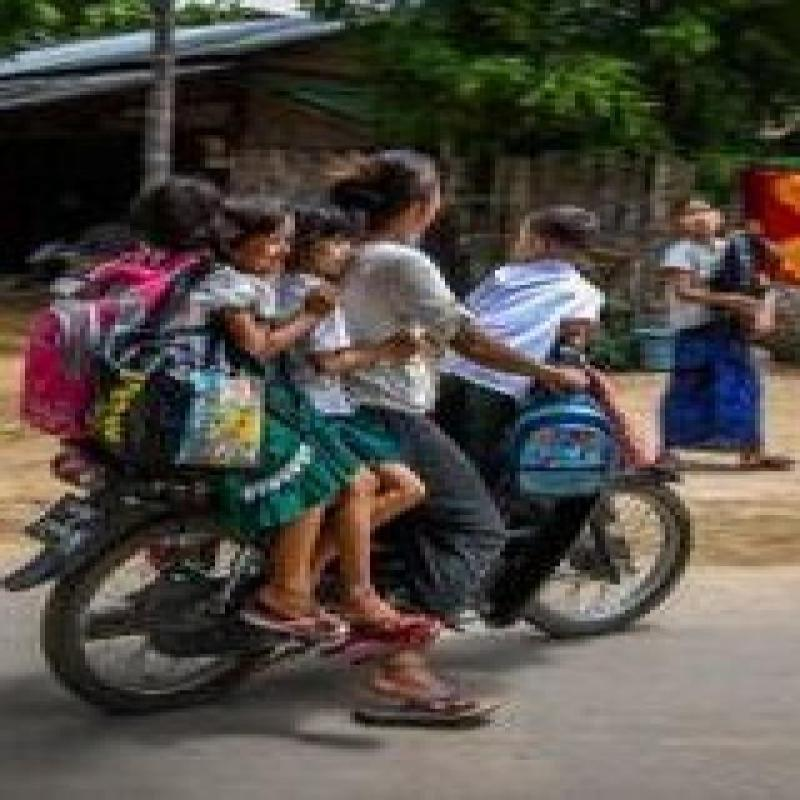nohelmet: (322, 136, 454, 245), (504, 192, 610, 276)
